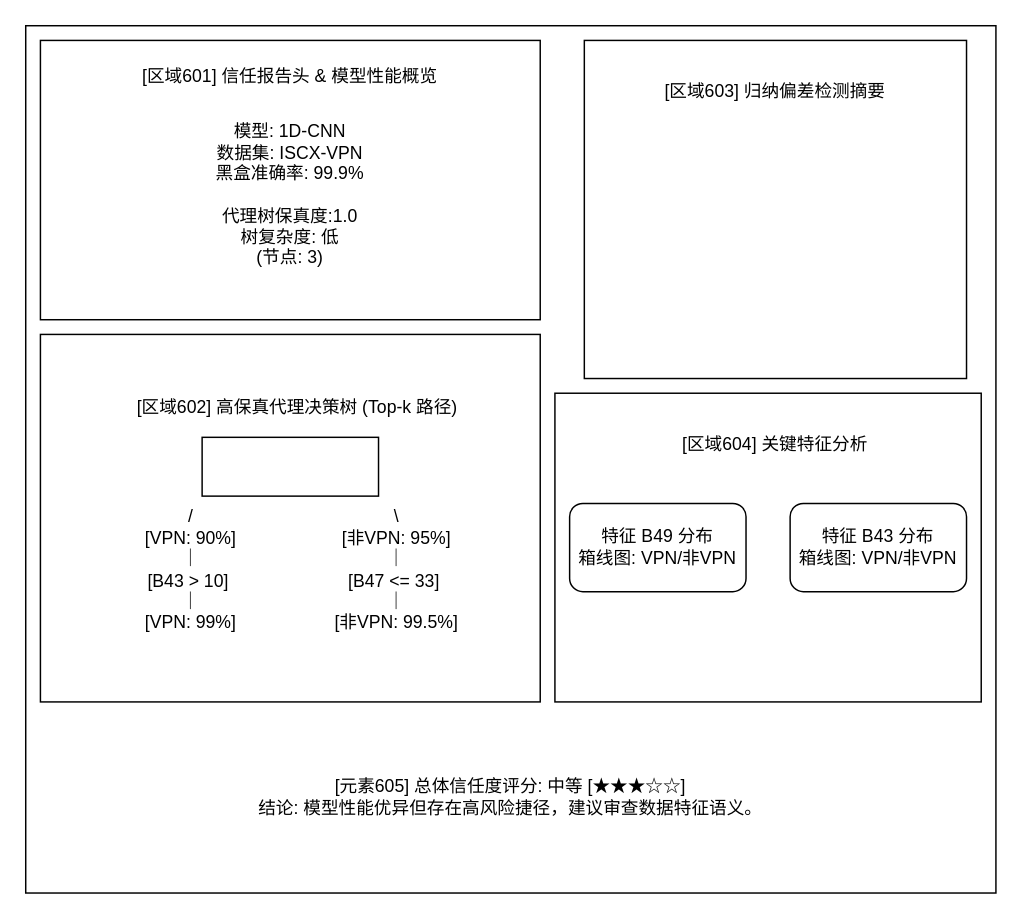
This 1022x919 diagram has some shape labels left out. The box of each missing label's shape, as (x1, y1, x2, y2) in pixels:
[根节点: B49 <= 17.0]: (201, 436, 379, 496)
捷径学习检测: 发现 规则: IF (B49<=17)... 风险: 高 伪相关性检测: 可能 特征: B49, B43 理由: 语义不符: (583, 39, 967, 379)
